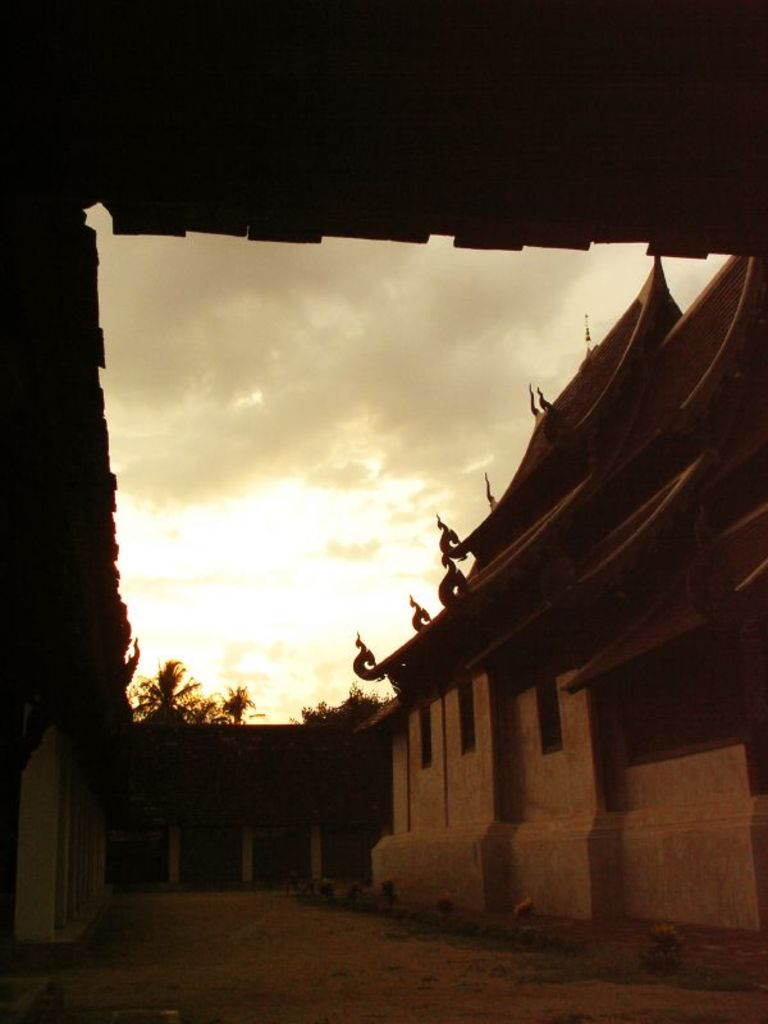Tree: (129, 656, 225, 733), (293, 678, 391, 738), (220, 684, 257, 724)
